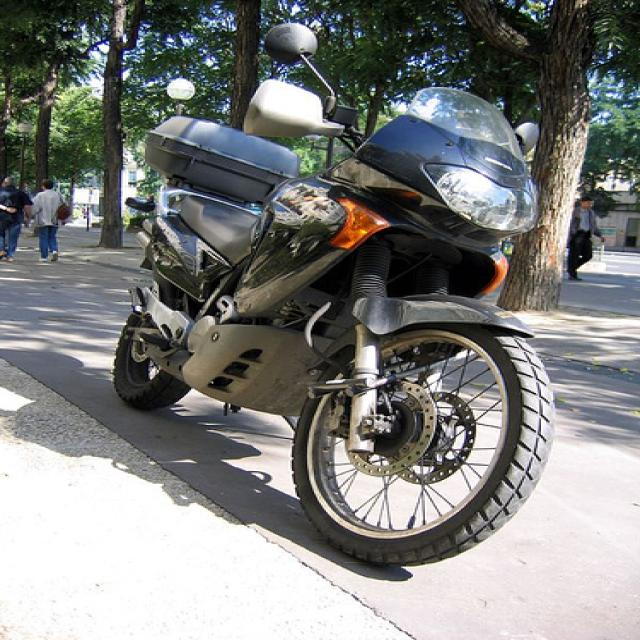motor: (111, 24, 553, 567)
